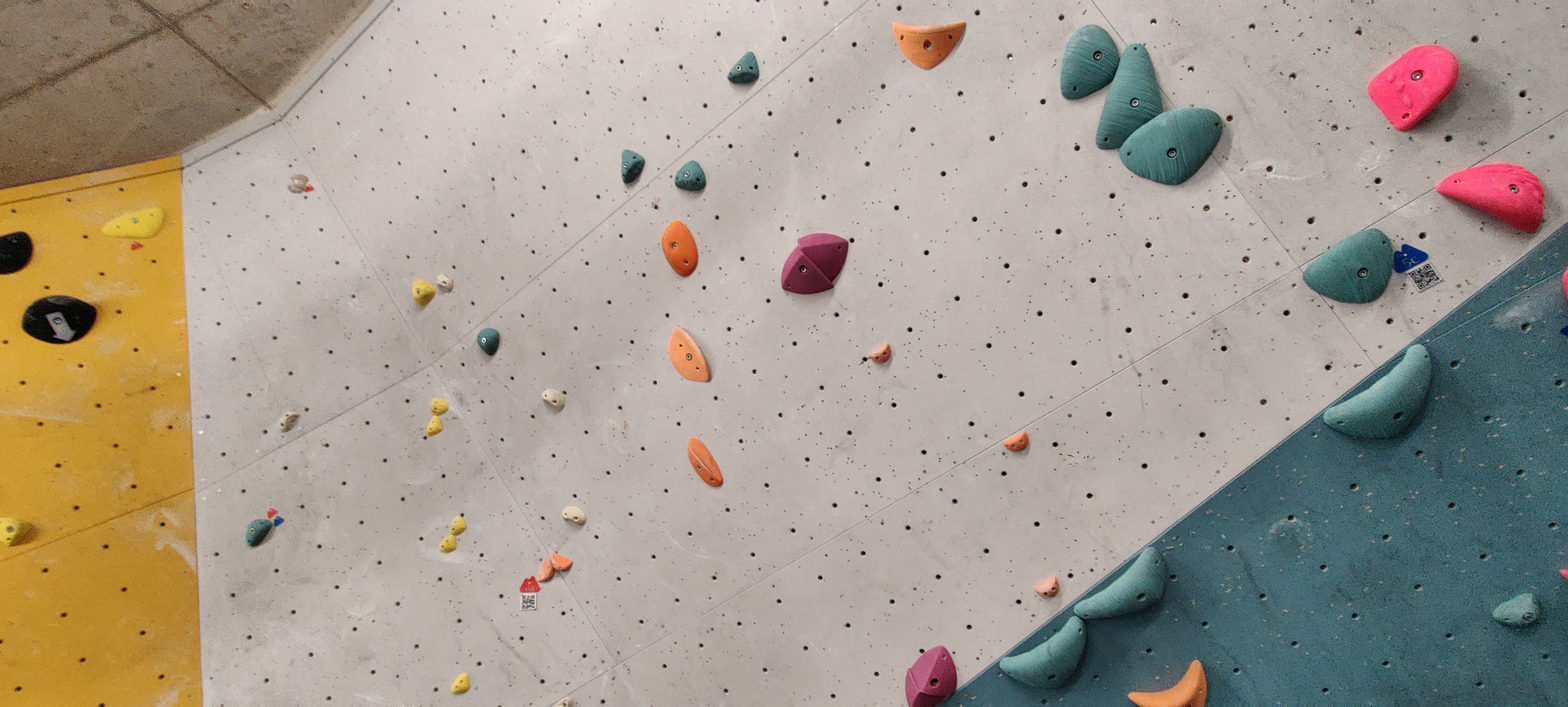hold: (1322, 344, 1432, 439), (1119, 107, 1223, 185), (1367, 44, 1458, 131), (1438, 163, 1544, 232), (1095, 44, 1164, 149), (1074, 547, 1168, 620), (1303, 228, 1393, 303), (999, 616, 1088, 688), (1060, 25, 1120, 99), (782, 234, 848, 293), (22, 295, 97, 344), (1129, 661, 1203, 706), (894, 23, 963, 68), (906, 645, 956, 706), (668, 326, 710, 382), (661, 220, 698, 276), (102, 206, 164, 238), (688, 439, 723, 485), (1492, 593, 1536, 626), (0, 231, 33, 274), (728, 52, 760, 83), (0, 516, 32, 546), (674, 161, 706, 191), (621, 150, 645, 184), (245, 518, 273, 547), (476, 328, 500, 356), (412, 279, 435, 306), (535, 558, 554, 583), (549, 552, 573, 571), (1004, 431, 1027, 450), (279, 411, 299, 432), (544, 390, 564, 410), (288, 174, 309, 193), (564, 507, 586, 525), (1036, 577, 1056, 595), (450, 514, 466, 536), (430, 398, 449, 416), (426, 416, 443, 436), (439, 535, 457, 553), (436, 274, 454, 291), (453, 674, 468, 693), (872, 345, 889, 361)
